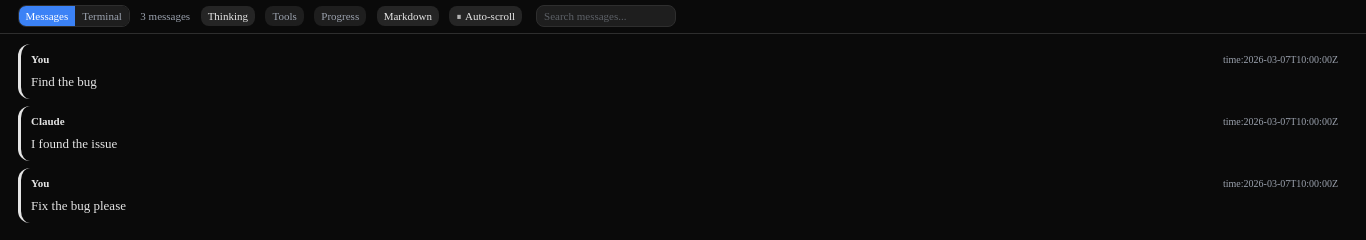
Test case: MessageList search › search input filters messages by content
Type "bug" into the search field labelled "Search messages" at point(606, 16), box left=536, top=5, right=676, bottom=27
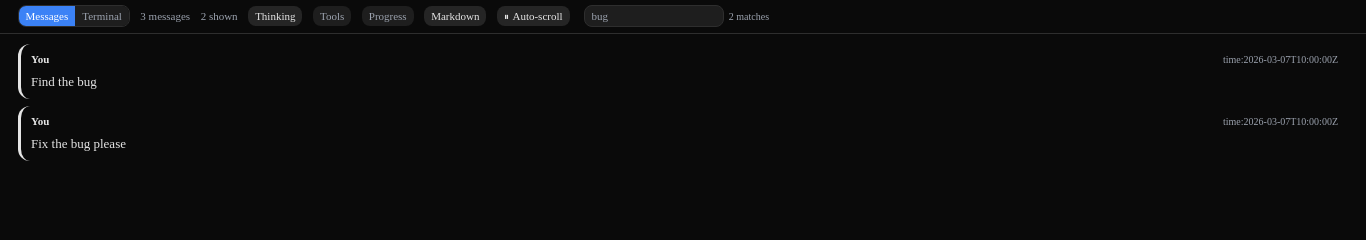
Expected: the text "Find the bug" is shown, left=31, top=74, right=97, bottom=89
Result: the text "I found the issue" is gone
